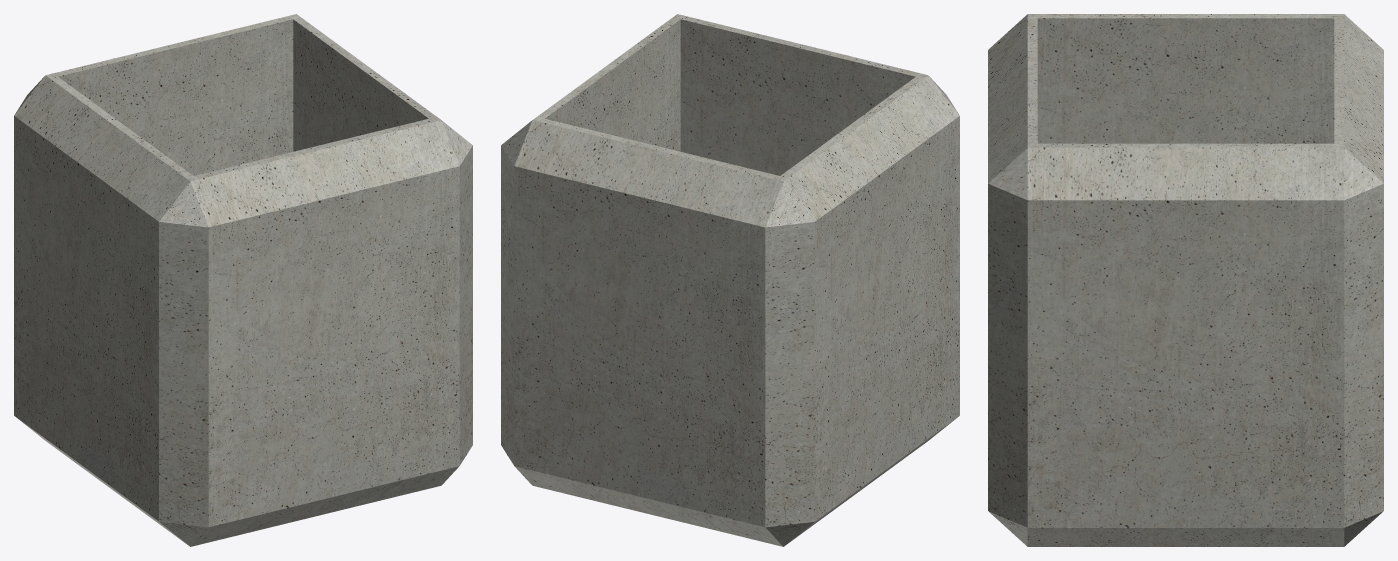
File: ConcreteBox01.FBX
3 views of the same model, side by side, from view 1: azimuth 30°, elevation 25°; view 2: azimuth 150°, elevation 25°; view 3: azimuth 270°, elevation 25° (orthographic). The views are drawn at different scales.
Visible parts, largest first — view 1: GarbageBox; view 2: GarbageBox; view 3: GarbageBox.
Part boxes in pixels (left/top/right/bottom): GarbageBox: left=14, top=14, right=472, bottom=546; GarbageBox: left=501, top=14, right=959, bottom=546; GarbageBox: left=988, top=14, right=1383, bottom=546.
Size of the model in its own units: 19.69 by 21.91 by 19.69.
